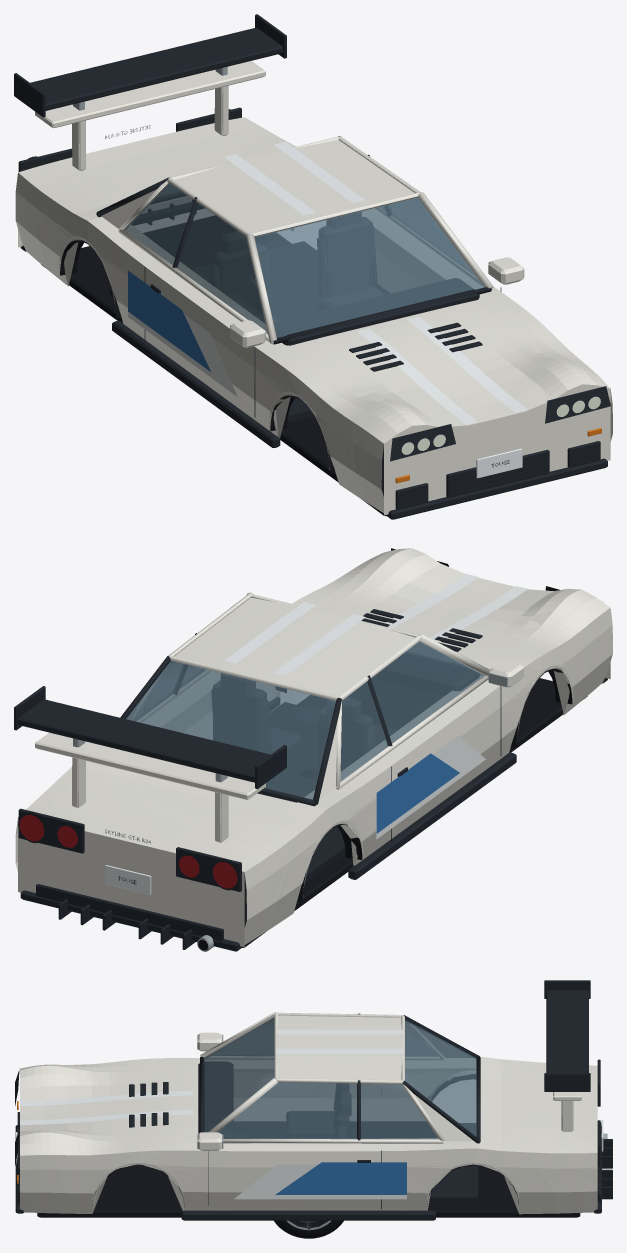
3 renders of one model, top to bottom at view 1: azimuth 30°, elevation 25°; view 2: azimuth 150°, elevation 25°; view 3: azimuth 270°, elevation 25°, orthographic. The views are drawn at different scales.
Visible parts, largest first — view 1: LOD0_body, LOD0_cabin, LOD0_glass, LOD1_glass, LOD1_body, LOD0_hood, LOD0_spoiler_gt, LOD1_hood, LOD1_spoiler_gt, LOD0_spoiler_stock, LOD1_cabin, LOD0_vinyl_apex (+2 smaller); view 2: LOD0_body, LOD1_body, LOD0_cabin, LOD0_glass, LOD1_glass, LOD0_spoiler_gt, LOD0_hood, LOD1_cabin, LOD1_hood, LOD0_spoiler_stock, LOD0_vinyl_apex, LOD1_spoiler_gt (+3 smaller); view 3: LOD0_body, LOD1_body, LOD0_cabin, LOD1_glass, LOD0_glass, LOD0_hood, LOD0_vinyl_apex, LOD1_hood, LOD0_spoiler_gt, LOD1_cabin, LOD0_vinyl_twin, LOD1_vinyl_twin (+4 smaller).
Boxes of the visible parts, x1,y1,x2,y2 form: LOD0_body: [15, 107, 610, 519]; LOD0_cabin: [96, 136, 493, 422]; LOD0_glass: [125, 183, 484, 337]; LOD1_glass: [125, 184, 483, 337]; LOD1_body: [15, 108, 612, 519]; LOD0_hood: [277, 295, 595, 433]; LOD0_spoiler_gt: [14, 14, 286, 117]; LOD1_hood: [300, 305, 568, 426]; LOD1_spoiler_gt: [31, 27, 286, 116]; LOD0_spoiler_stock: [35, 61, 265, 170]; LOD1_cabin: [97, 136, 491, 421]; LOD0_vinyl_apex: [128, 270, 237, 396]; LOD0_body: [15, 548, 612, 951]; LOD1_body: [15, 569, 610, 951]; LOD0_cabin: [120, 592, 489, 883]; LOD0_glass: [126, 641, 484, 799]; LOD1_glass: [126, 642, 483, 799]; LOD0_spoiler_gt: [14, 686, 286, 788]; LOD0_hood: [312, 548, 596, 677]; LOD1_cabin: [168, 593, 487, 881]; LOD1_hood: [331, 553, 568, 651]; LOD0_spoiler_stock: [35, 732, 265, 842]; LOD0_vinyl_apex: [376, 736, 485, 839]; LOD1_spoiler_gt: [16, 686, 269, 781]; LOD0_body: [15, 1032, 612, 1220]; LOD1_body: [16, 1033, 607, 1220]; LOD0_cabin: [198, 1012, 480, 1202]; LOD1_glass: [204, 1018, 476, 1139]; LOD0_glass: [204, 1018, 476, 1139]; LOD0_hood: [20, 1063, 199, 1147]; LOD0_vinyl_apex: [234, 1162, 406, 1199]; LOD1_hood: [20, 1066, 189, 1141]; LOD0_spoiler_gt: [544, 980, 590, 1091]; LOD1_cabin: [199, 1012, 479, 1202]; LOD0_vinyl_twin: [30, 1029, 402, 1124]; LOD1_vinyl_twin: [20, 1029, 402, 1124].
Bounding box in the file's own units: 2.05 × 1.82 × 4.77.
